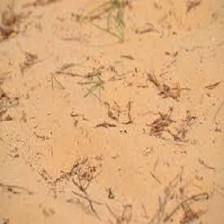sandy_soil: (7, 21, 217, 206)
